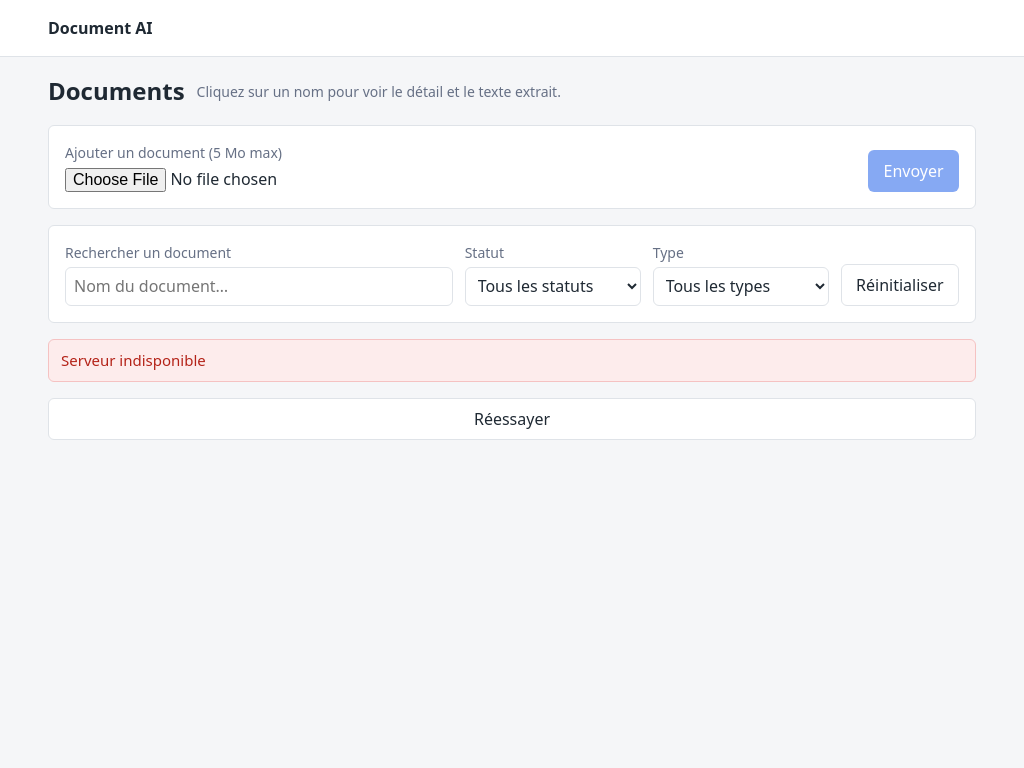
Test: Liste des documents › affiche une erreur puis permet de reessayer
expect the text "Serveur indisponible" is shown: met, box [48,339,976,382]
Click the button "Réessayer". click: (512, 420)
box: [48,399,976,441]
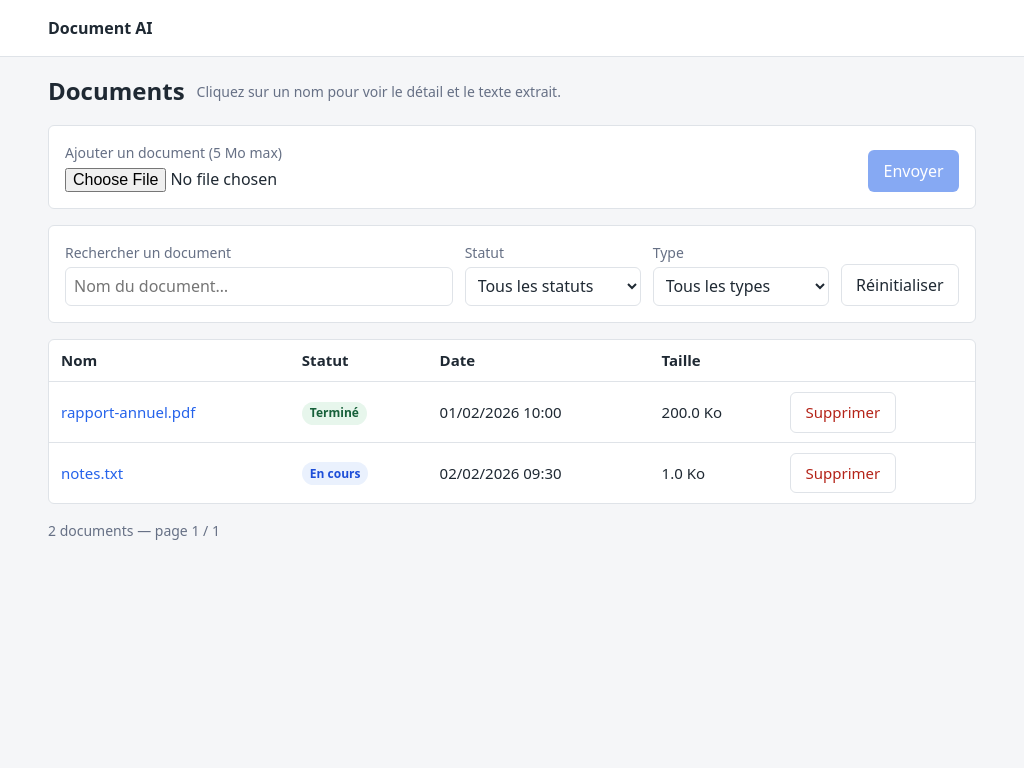
expect the text "Serveur indisponible" is gone: met
